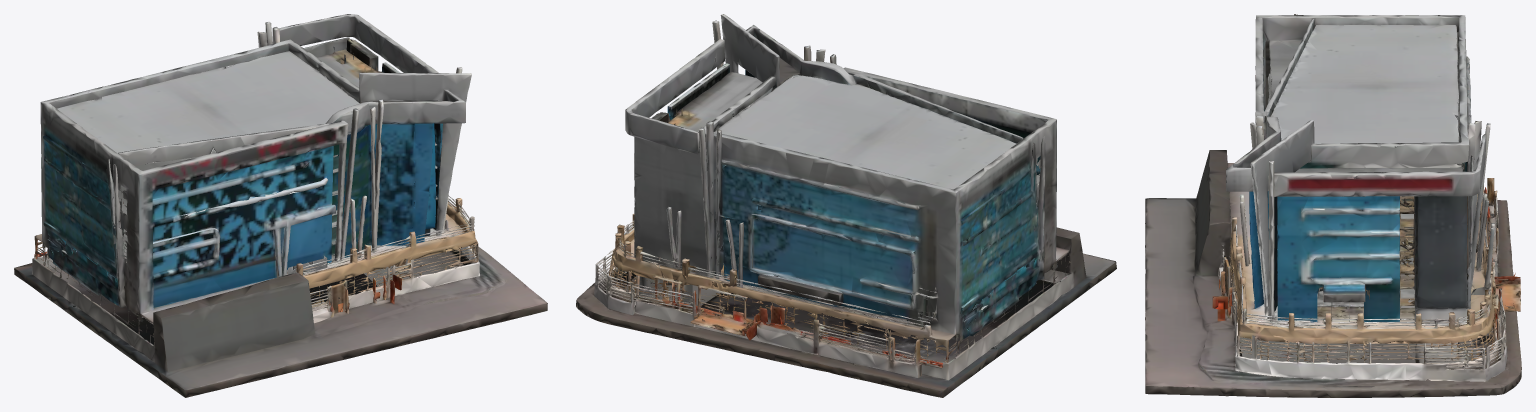
The model's file is banque-misr-5.glb.
The picture shows the model from 3 angles, left to right: view 1: azimuth 30°, elevation 25°; view 2: azimuth 150°, elevation 25°; view 3: azimuth 270°, elevation 25°; orthographic projection. The views are drawn at different scales.
Bounding box in the file's own units: 1 × 0.5367 × 0.8355.
Materials: 1 (1 with a texture image).
